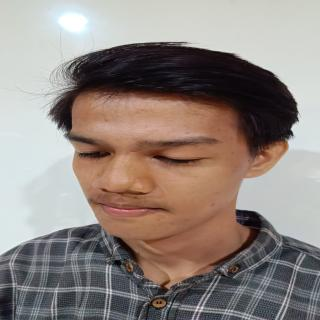Sedih: (57, 87, 255, 249)
